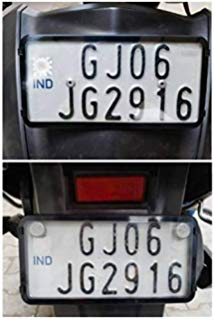number_plate: (18, 32, 208, 130), (17, 211, 204, 303)
